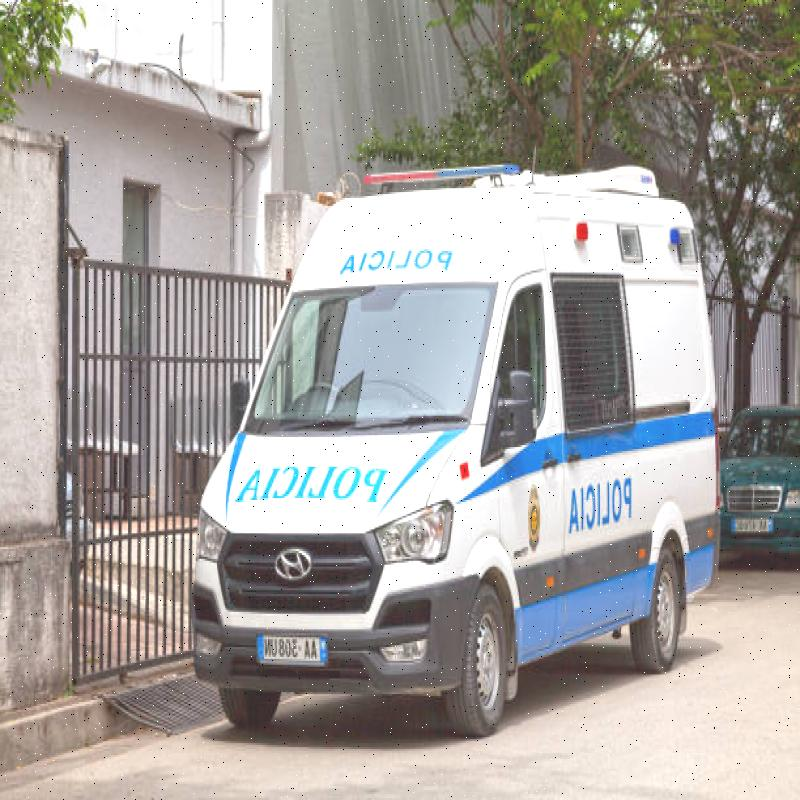AmbulanceSiren: (364, 148, 524, 200)
